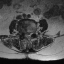CCS_severe_stenosis: (26, 31, 29, 40)
LFS_stenosis: (31, 29, 34, 36)
LLS_normal: (29, 32, 31, 39)
RFS_severe_stenosis: (22, 30, 24, 36)
RLS_normal: (24, 31, 26, 39)
